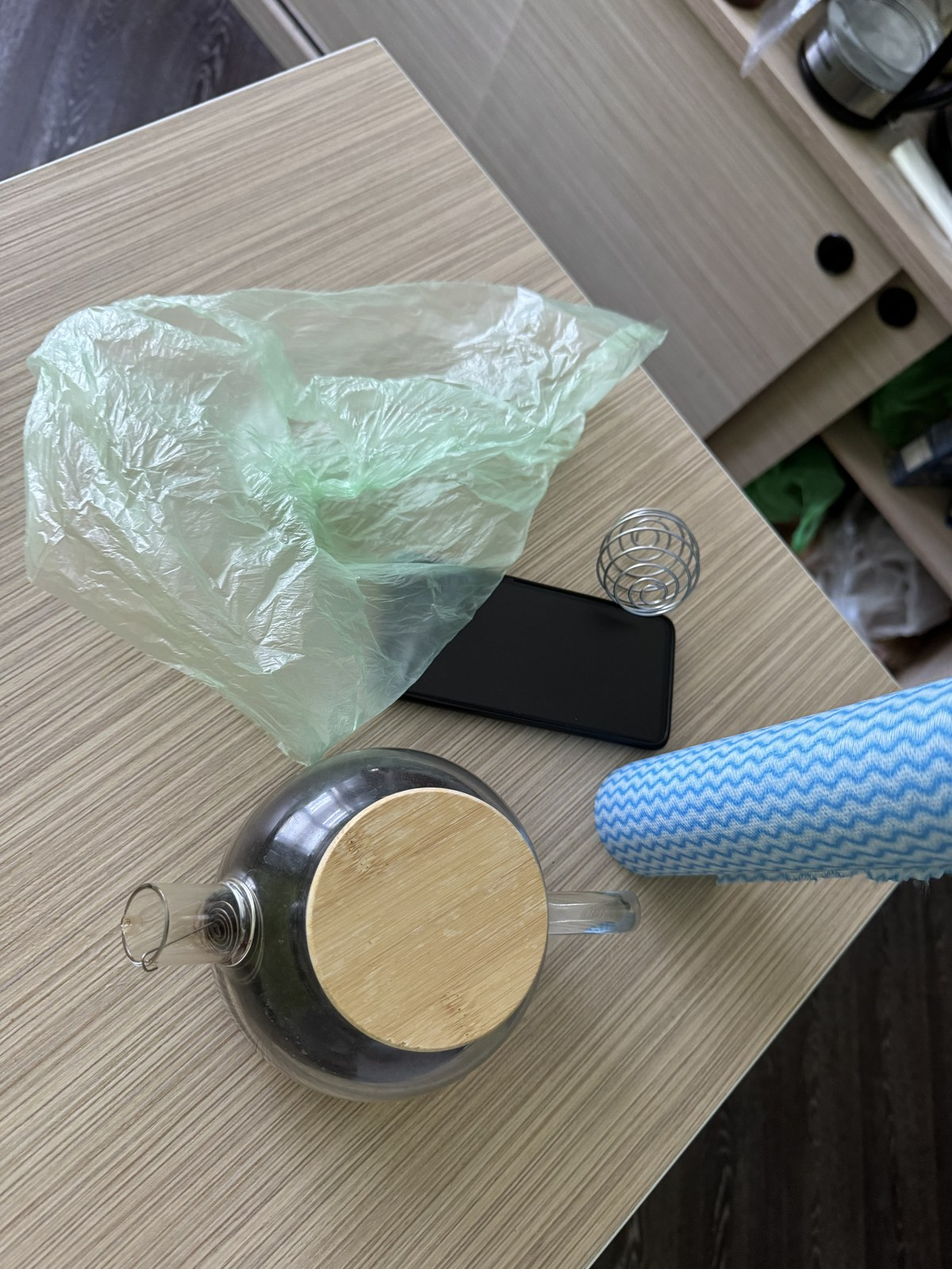cell phone: (398, 571, 676, 750)
